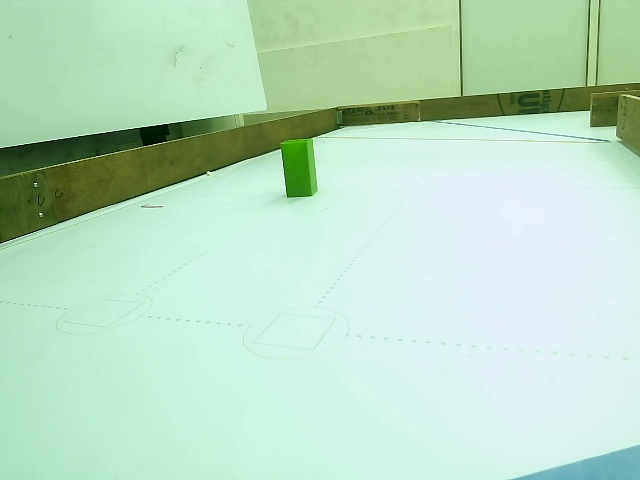green: (279, 140, 319, 195)
